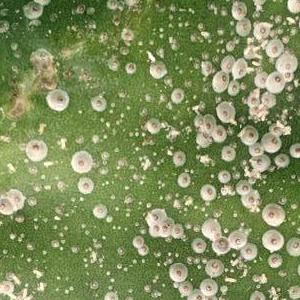Femea: (26, 141, 46, 159), (45, 93, 64, 108), (264, 134, 280, 151), (236, 20, 252, 36), (71, 154, 85, 171), (195, 116, 212, 130), (212, 74, 226, 89), (220, 57, 233, 72), (268, 74, 282, 87), (242, 128, 255, 142), (232, 3, 246, 15), (218, 107, 230, 121), (231, 65, 244, 77), (279, 58, 292, 70), (267, 42, 278, 56), (173, 153, 184, 166), (178, 175, 190, 186), (212, 128, 223, 140), (93, 97, 105, 108), (255, 24, 265, 36), (230, 82, 240, 94), (146, 119, 156, 131)
Linfa: (126, 130, 148, 137), (155, 25, 164, 40), (175, 20, 190, 28), (156, 178, 166, 190), (98, 118, 109, 128), (145, 38, 154, 46), (136, 39, 145, 46)
Macho: (143, 48, 154, 62), (249, 58, 260, 67), (142, 157, 149, 170), (285, 15, 295, 24), (252, 53, 263, 60)
